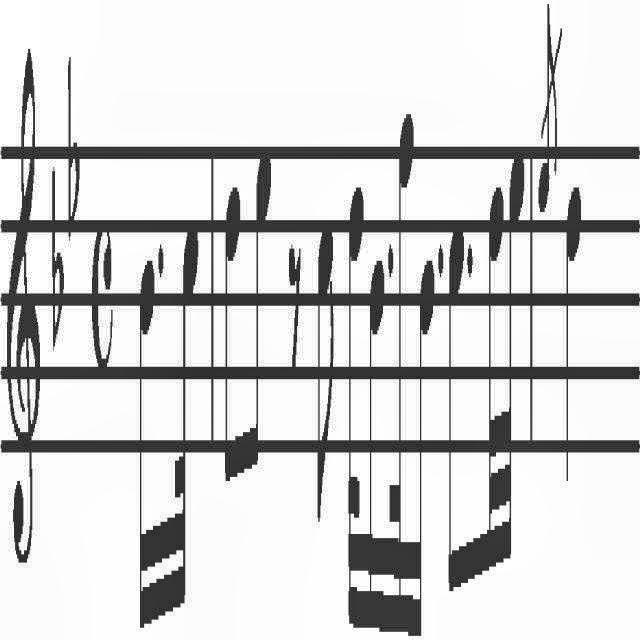Bass-clef: (5, 35, 43, 607)
Bemol: (62, 47, 82, 257), (49, 148, 63, 356)
Eighth-note: (246, 138, 274, 482), (312, 208, 336, 544), (448, 196, 464, 620), (222, 168, 242, 500)
Eighth-rest: (287, 220, 303, 408)
Quarter-note: (566, 163, 586, 494)
Sixteenth-note: (134, 248, 158, 640), (414, 248, 434, 640), (366, 248, 386, 628)
